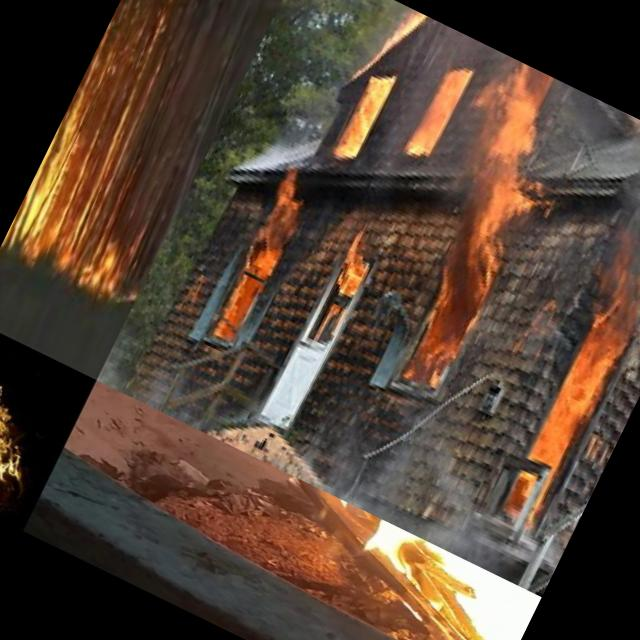fire: (372, 57, 586, 377), (221, 462, 541, 640), (0, 58, 202, 304), (509, 280, 640, 499), (185, 168, 318, 360), (0, 317, 77, 521), (401, 60, 476, 170), (326, 69, 396, 173), (324, 212, 395, 304), (374, 0, 445, 61)
